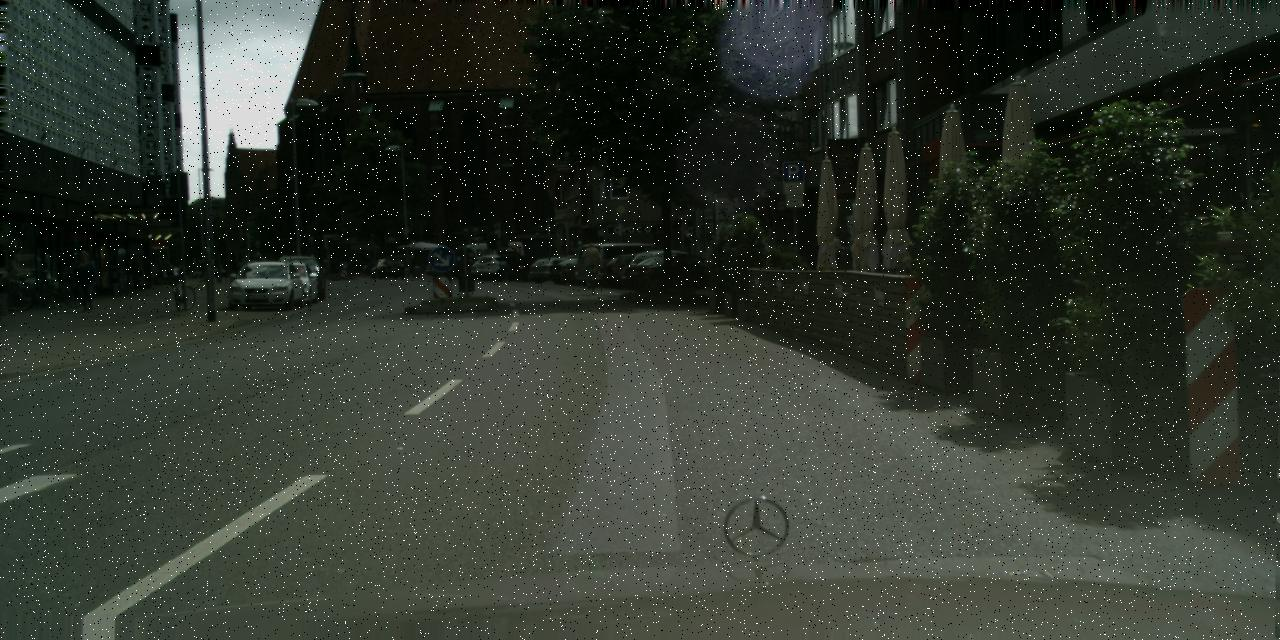ped: (74, 250, 98, 311), (583, 243, 601, 286), (830, 232, 846, 272), (128, 258, 143, 296), (498, 252, 509, 282), (406, 254, 416, 277), (259, 257, 268, 280), (165, 262, 174, 284)
